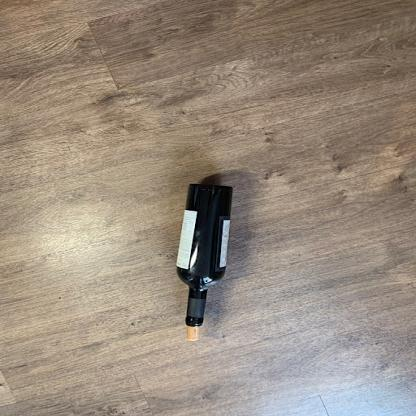trash: (170, 183, 235, 329)
